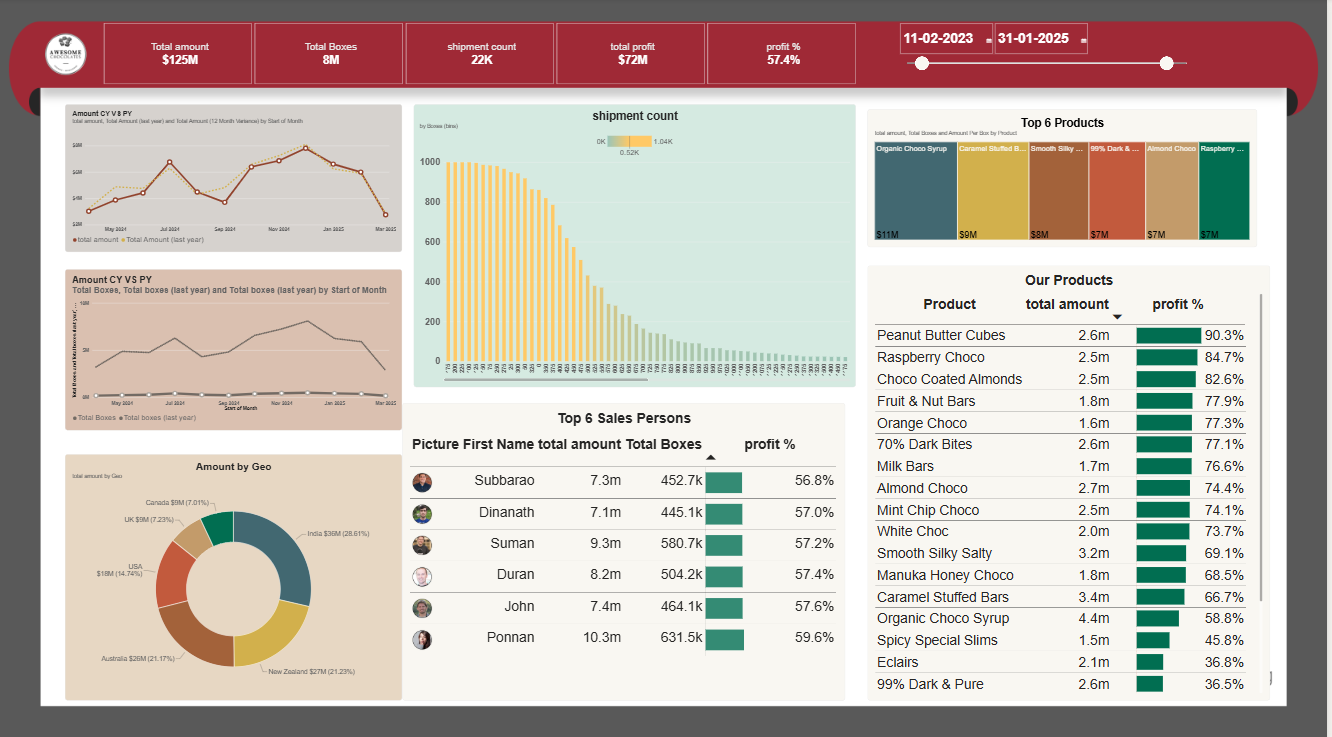

The dashboard page shown, as its layout file describes it:
{"tool":"powerbi","page":{"name":"Dashboard","canvas":[3840,2160],"ordinal":7},"visuals":[{"type":"lineChart","title":"Amount CY VS PY","fields":{"Category":["calender.Start of Month"],"Y":["shipments.total amount","shipments.Total Amount (last year)"]},"box":[188.2,307.6,975.6,428.4],"z":0,"group":"g1"},{"type":"textbox","box":[150,140,300,169],"z":1000},{"type":"lineChart","title":"Amount CY VS PY","fields":{"Category":["calender.Start of Month"],"Y":["shipments.Total Boxes","shipments.Total boxes (last year)"]},"box":[188.2,786.8,975.6,466.5],"z":2000,"group":"g1"},{"type":"donutChart","title":"Amount by Geo","fields":{"Category":["locations.Geo"],"Y":["shipments.total amount"]},"box":[188.2,1321.2,975.6,712.5],"z":3000,"group":"g1"},{"type":"clusteredColumnChart","fields":{"Category":["shipments.Boxes (bins)"],"Y":["shipments.shipment count"]},"box":[1197.9,308.7,1280.3,819.2],"z":4000},{"type":"tableEx","title":"Top 6 Sales Persons","fields":{"Values":["people.Picture","people.First Name","shipments.total amount","shipments.Total Boxes","shipments.profit %"]},"box":[1165.4,1172.7,1281.2,861.4],"z":5000},{"type":"treemap","title":"Top 6 Products","fields":{"Group":["products.Product"],"Values":["shipments.total amount"]},"box":[2511.2,321.1,1128,399.3],"z":6000},{"type":"tableEx","title":"Our Products","fields":{"Values":["products.Product","shipments.total amount","shipments.profit %"]},"box":[2511.8,774.5,1165.4,1259.5],"z":7000},{"type":"cardVisual","fields":{"Data":["shipments.total amount","shipments.Total Boxes","shipments.shipment count","shipments.total profit","shipments.profit %"]},"box":[300.4,72.4,2178.8,177.3],"z":8000},{"type":"slicer","fields":{"Values":["calender.cal_date"]},"box":[2597.6,70,860.4,177],"z":9000},{"type":"group","id":"g1","title":"Group 1","box":[188.2,307.6,977.2,1726.4],"z":9001}]}

Visuals, with their boxes in screenshot pixels (x1, y1, x2, y2), scaled from the page's 3840x2160 canvas onto the 1332x737 screenshot:
"Amount CY VS PY" lineChart: region(65, 105, 404, 251)
textbox: region(52, 48, 156, 105)
"Amount CY VS PY" lineChart: region(65, 268, 404, 428)
"Amount by Geo" donutChart: region(65, 451, 404, 694)
clusteredColumnChart - shipments.Boxes (bins) x shipments.shipment count: region(416, 105, 860, 385)
"Top 6 Sales Persons" tableEx: region(404, 400, 849, 694)
"Top 6 Products" treemap: region(871, 110, 1262, 246)
"Our Products" tableEx: region(871, 264, 1276, 694)
cardVisual - shipments.total amount x shipments.Total Boxes: region(104, 25, 860, 85)
slicer - calender.cal_date: region(901, 24, 1199, 84)
"Group 1" group: region(65, 105, 404, 694)
